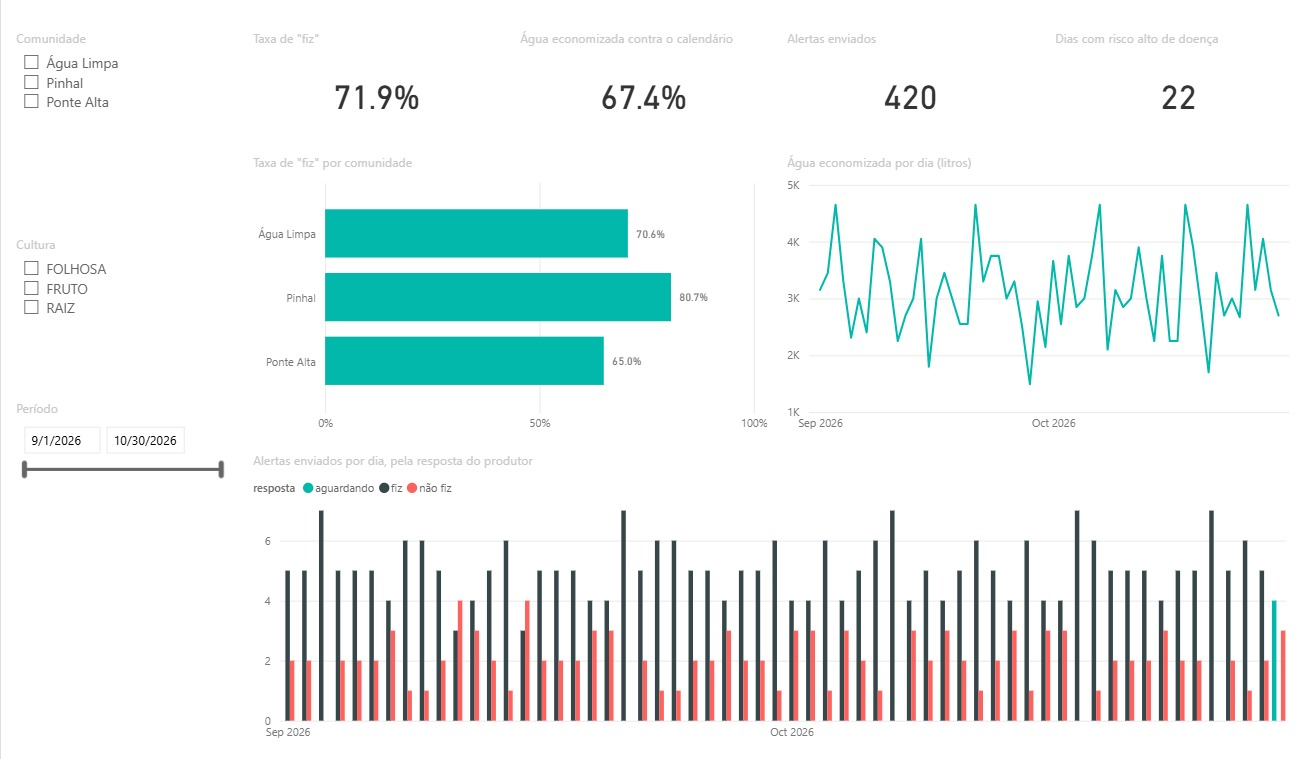

What the dashboard file says about the page in this screenshot:
{"tool":"powerbi","page":{"name":"Painel do técnico","canvas":[1280,720],"ordinal":0},"visuals":[{"type":"slicer","title":"Comunidade","fields":{"Values":["dim_canteiro.comunidade"]},"box":[10,10,220,190],"z":0},{"type":"slicer","title":"Cultura","fields":{"Values":["dim_canteiro.cultura"]},"box":[10,210,220,150],"z":1000},{"type":"slicer","title":"Período","fields":{"Values":["calendario.data"]},"box":[10,370,220,140],"z":2000},{"type":"card","title":"Taxa de \"fiz\"","fields":{"Values":["alertas.Taxa de fiz"]},"box":[240,10,250,110],"z":3000},{"type":"card","title":"Água economizada contra o calendário","fields":{"Values":["fato_diario_canteiro.Água economizada (%)"]},"box":[500,10,250,110],"z":4000},{"type":"card","title":"Alertas enviados","fields":{"Values":["alertas.Alertas enviados"]},"box":[760,10,250,110],"z":5000},{"type":"card","title":"Dias com risco alto de doença","fields":{"Values":["fato_diario_canteiro.Dias com risco alto de doença"]},"box":[1020,10,250,110],"z":6000},{"type":"clusteredBarChart","title":"Taxa de \"fiz\" por comunidade","fields":{"Category":["dim_canteiro.comunidade"],"Y":["alertas.Taxa de fiz"]},"box":[240,130,510,280],"z":7000},{"type":"lineChart","title":"Água economizada por dia (litros)","fields":{"Category":["calendario.data"],"Y":["fato_diario_canteiro.Água economizada (L)"]},"box":[760,130,510,280],"z":8000},{"type":"clusteredColumnChart","title":"Alertas enviados por dia, pela resposta do produtor","fields":{"Category":["calendario.data"],"Series":["alertas.resposta"],"Y":["alertas.Alertas enviados"]},"box":[240,420,1030,290],"z":9000}]}

Visuals, with their boxes in screenshot pixels (x1, y1, x2, y2), scaled from the page's 1280x720 canvas onto the 1315x759 screenshot:
"Comunidade" slicer: (10, 11, 236, 211)
"Cultura" slicer: (10, 221, 236, 380)
"Período" slicer: (10, 390, 236, 538)
"Taxa de "fiz"" card: (247, 11, 503, 126)
"Água economizada contra o calendário" card: (514, 11, 771, 126)
"Alertas enviados" card: (781, 11, 1038, 126)
"Dias com risco alto de doença" card: (1048, 11, 1305, 126)
"Taxa de "fiz" por comunidade" clusteredBarChart: (247, 137, 771, 432)
"Água economizada por dia (litros)" lineChart: (781, 137, 1305, 432)
"Alertas enviados por dia, pela resposta do produtor" clusteredColumnChart: (247, 443, 1305, 748)
